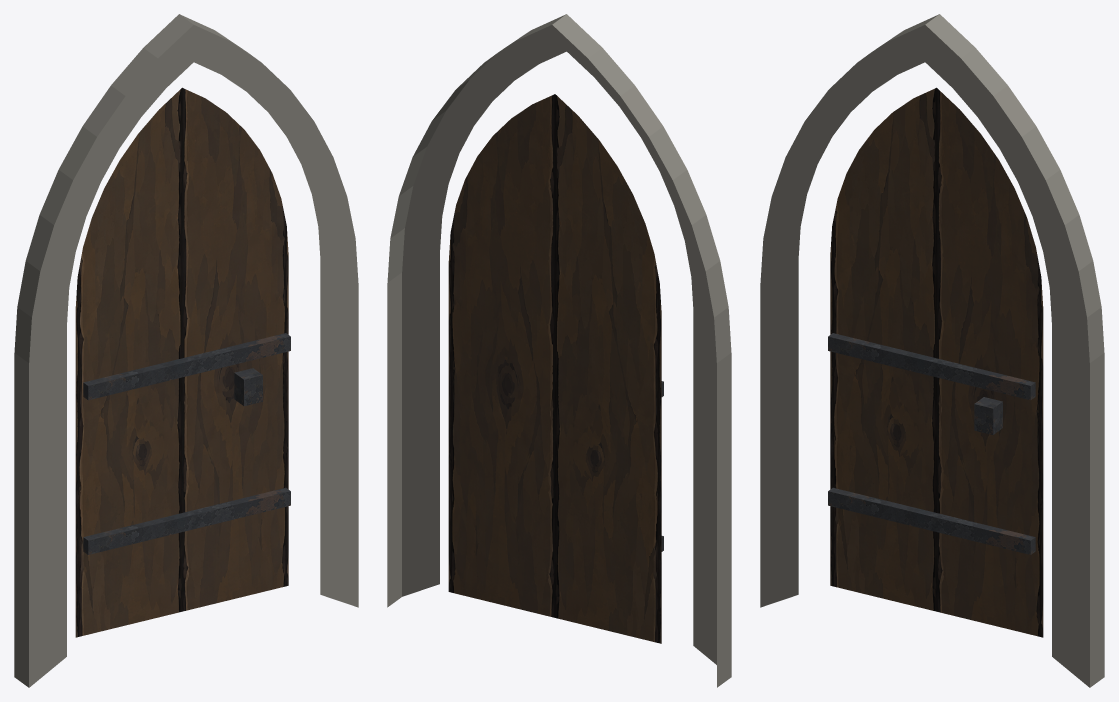
The model's file is door_arch_oak.glb.
The picture shows the model from 3 angles, left to right: view 1: azimuth 30°, elevation 25°; view 2: azimuth 150°, elevation 25°; view 3: azimuth 330°, elevation 25°; orthographic projection.
Visible parts, largest first — view 1: door_arch_oak; view 2: door_arch_oak; view 3: door_arch_oak.
Boxes of the visible parts, <box> form: door_arch_oak: <box>14,14,358,687</box>; door_arch_oak: <box>387,14,731,687</box>; door_arch_oak: <box>760,14,1104,687</box>.
Bounding box in the file's own units: 1.56 × 2.82 × 0.125.
Materials: 3 (2 with a texture image).
